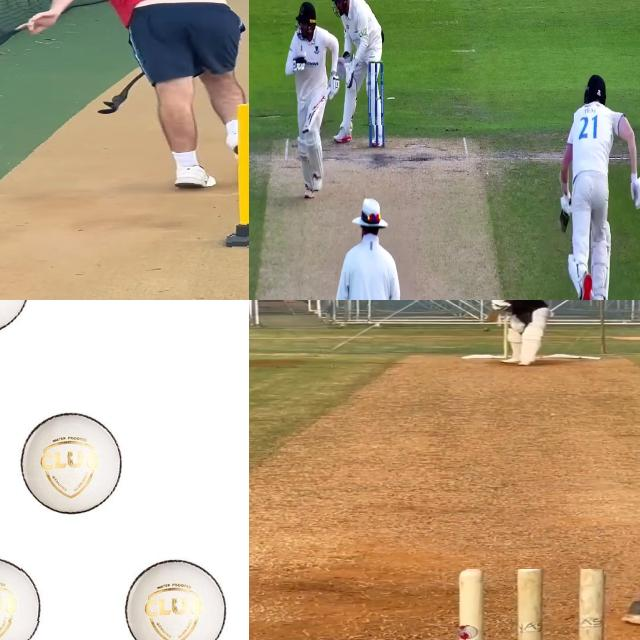Cricket ball: (15, 409, 127, 518), (118, 554, 231, 640), (0, 556, 45, 640), (483, 327, 491, 332)
Stumps: (457, 569, 604, 640), (223, 103, 249, 248), (367, 57, 385, 151)
